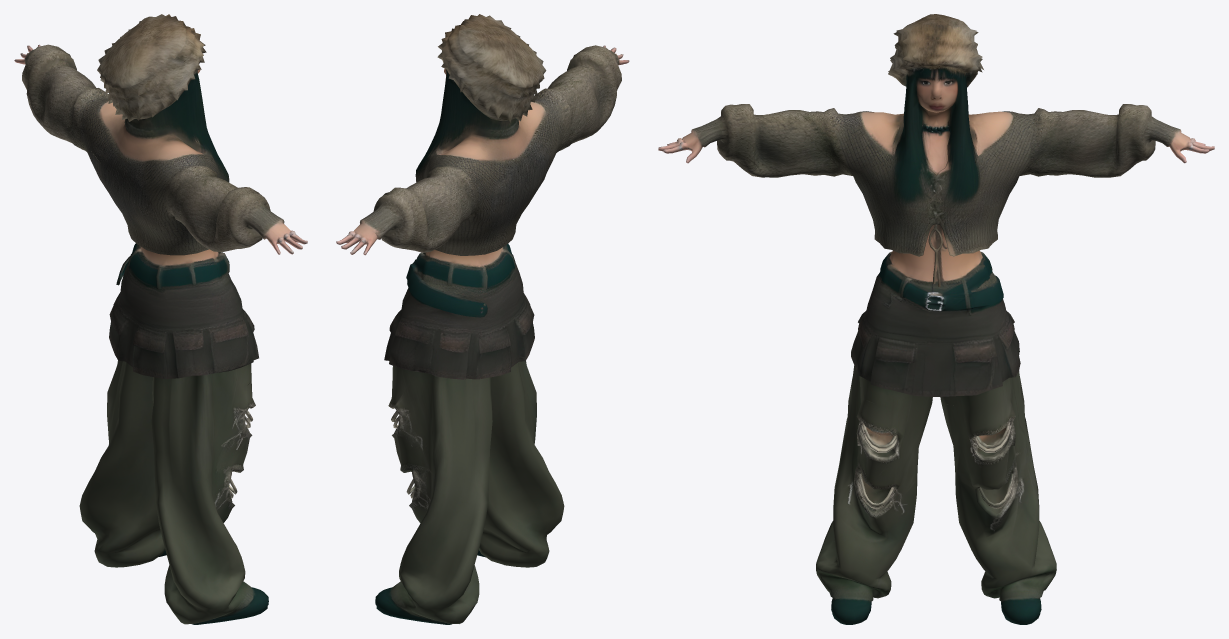
The model's file is fashionmodel3dmodel1.glb.
3 renders of one model, left to right at view 1: azimuth 30°, elevation 25°; view 2: azimuth 150°, elevation 25°; view 3: azimuth 270°, elevation 25°, orthographic.
Parts seen in each view (by area): view 1: tripo_node_c8039c6c-6501-4fb2-922f-166bcb216e96; view 2: tripo_node_c8039c6c-6501-4fb2-922f-166bcb216e96; view 3: tripo_node_c8039c6c-6501-4fb2-922f-166bcb216e96.
Part boxes in pixels (box(x1,y1,x2,y2)): tripo_node_c8039c6c-6501-4fb2-922f-166bcb216e96: box(14, 14, 307, 624); tripo_node_c8039c6c-6501-4fb2-922f-166bcb216e96: box(336, 14, 629, 624); tripo_node_c8039c6c-6501-4fb2-922f-166bcb216e96: box(658, 14, 1214, 624).
Bounding box in the file's own units: 0.2407 × 0.9995 × 0.8706.
Materials: 1 (1 with a texture image).
